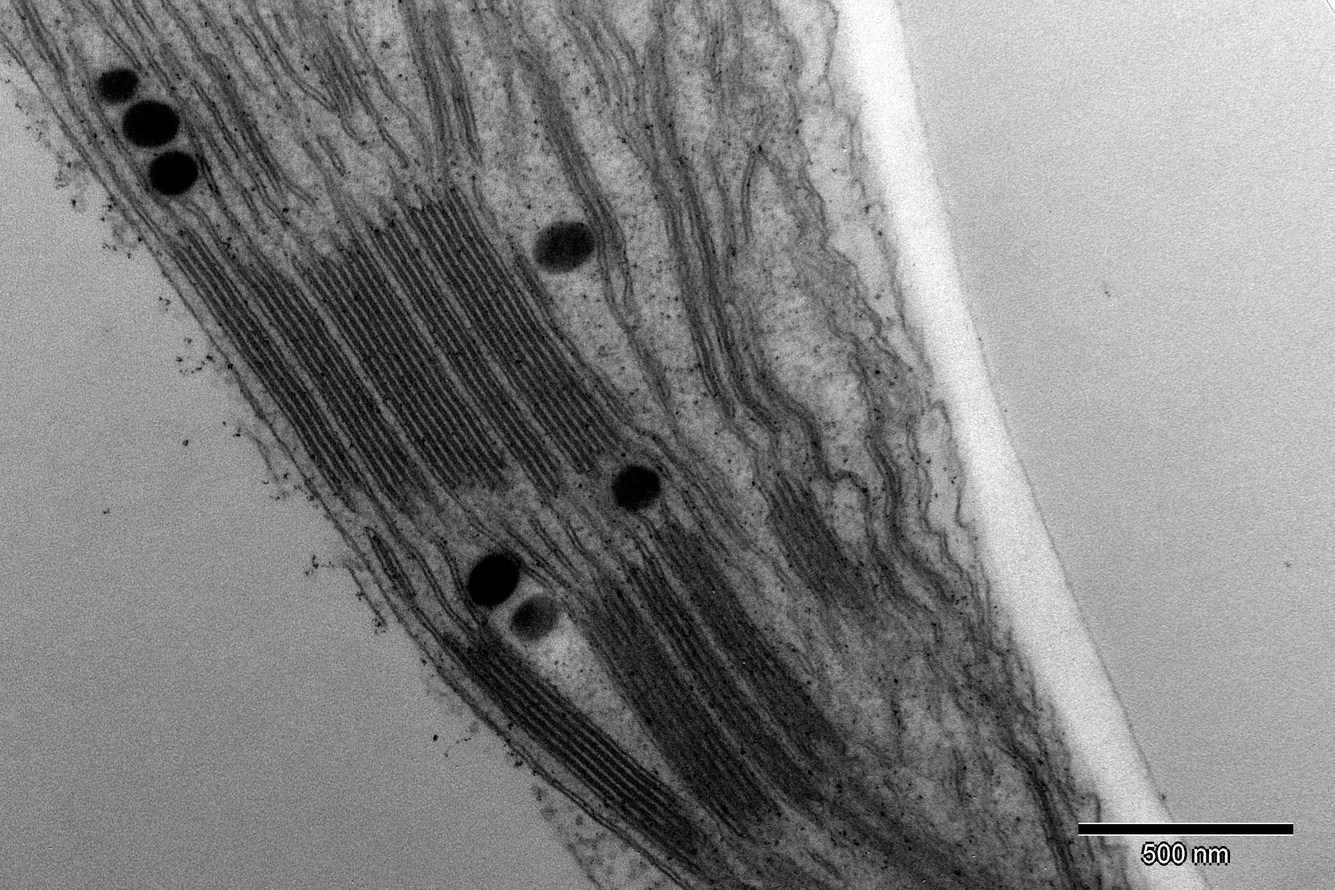granum: (449, 621, 710, 878), (404, 183, 631, 478), (160, 224, 368, 497), (288, 237, 510, 492), (369, 219, 563, 500), (573, 585, 782, 840), (623, 554, 824, 815), (236, 254, 438, 513), (646, 517, 838, 748), (749, 469, 887, 628), (534, 80, 633, 279), (293, 13, 366, 110)
